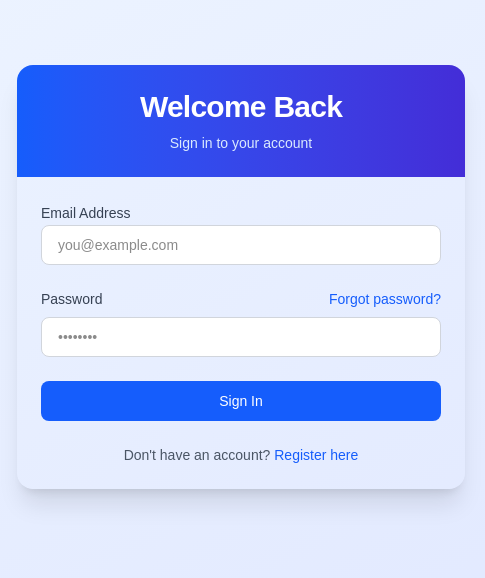
LoginPage › shows error message when login fails
The width and height of the screenshot is (485, 578).
Type "test@example.com" into the field labelled "Email Address" at (241, 245), box [41, 225, 441, 265]
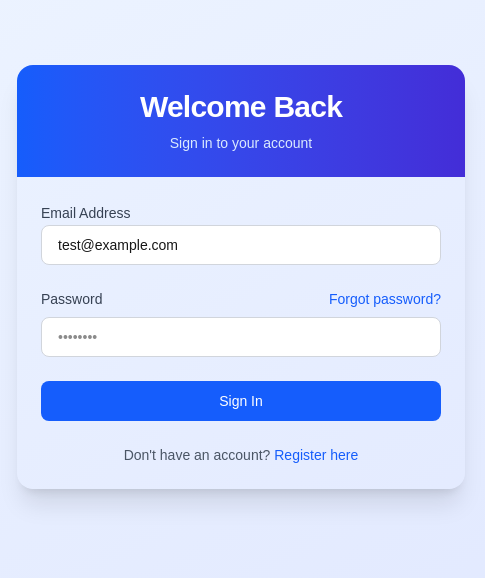
Type "password123" into the password field labelled "Password" at (241, 337), box [41, 317, 441, 357]
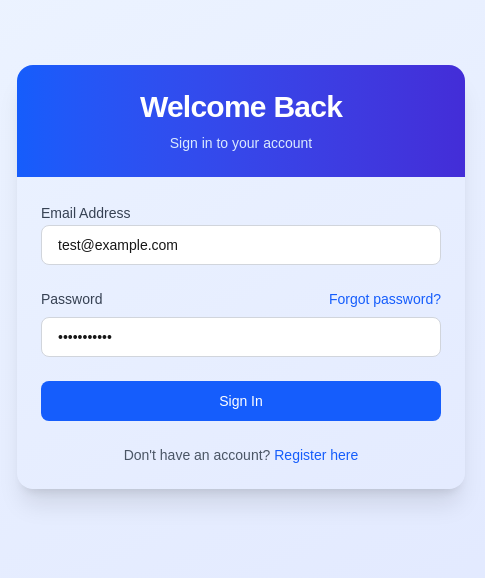
Click the button "Sign In" at (241, 401), box [41, 381, 441, 421]
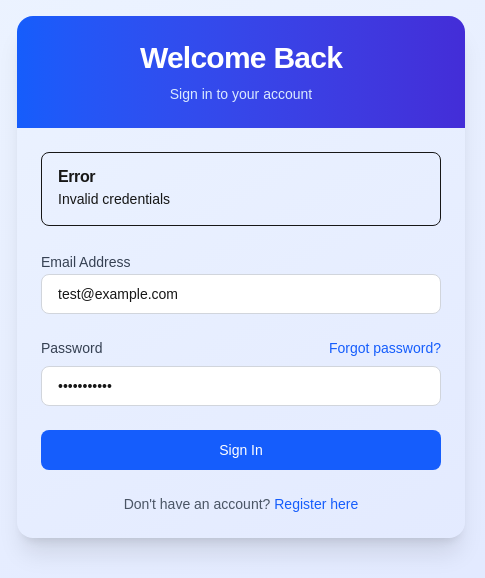
Now the heading "Error" is shown, box [58, 168, 95, 185]
Now the text "Invalid credentials" is shown, box [58, 191, 170, 207]
